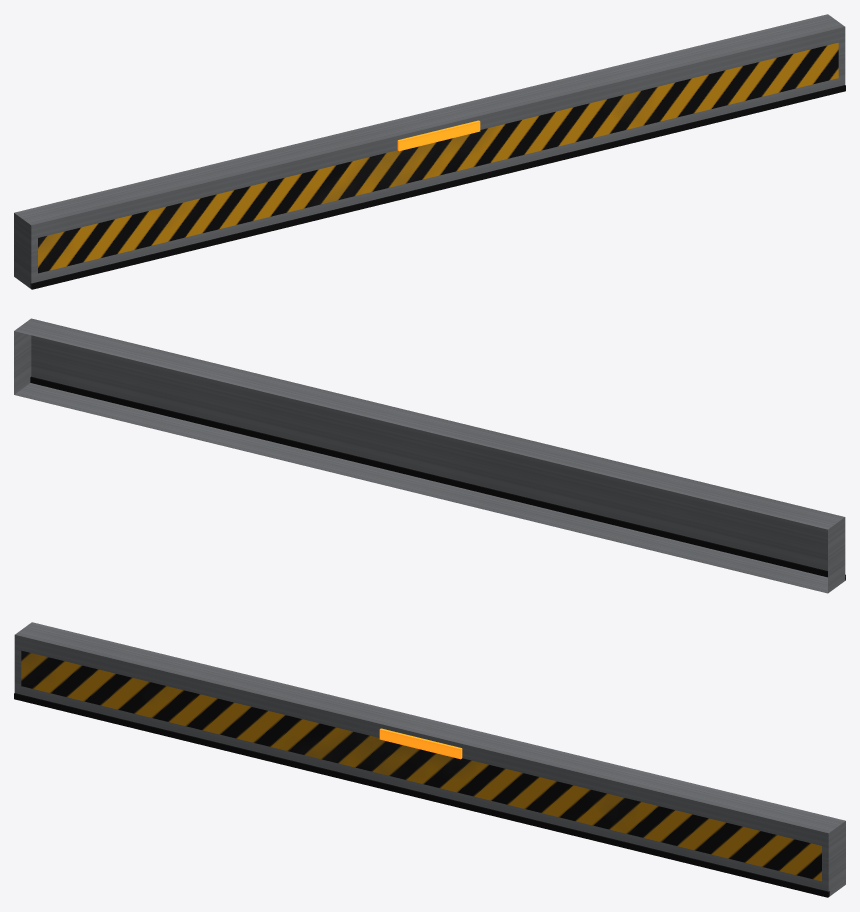
File: SM_LFD_B4_DoorHeader_6.fbx
3 renders of one model, top to bottom at view 1: azimuth 30°, elevation 25°; view 2: azimuth 150°, elevation 25°; view 3: azimuth 330°, elevation 25°, orthographic.
Visible parts, largest first — view 1: SM_LFD_B4_DoorHeader_6; view 2: SM_LFD_B4_DoorHeader_6; view 3: SM_LFD_B4_DoorHeader_6.
Boxes of the visible parts, bbox=[...] form: SM_LFD_B4_DoorHeader_6: bbox=[14, 14, 845, 289]; SM_LFD_B4_DoorHeader_6: bbox=[14, 318, 845, 593]; SM_LFD_B4_DoorHeader_6: bbox=[14, 622, 845, 897].
Bounding box in the file's own units: 6 × 0.45 × 0.24.
